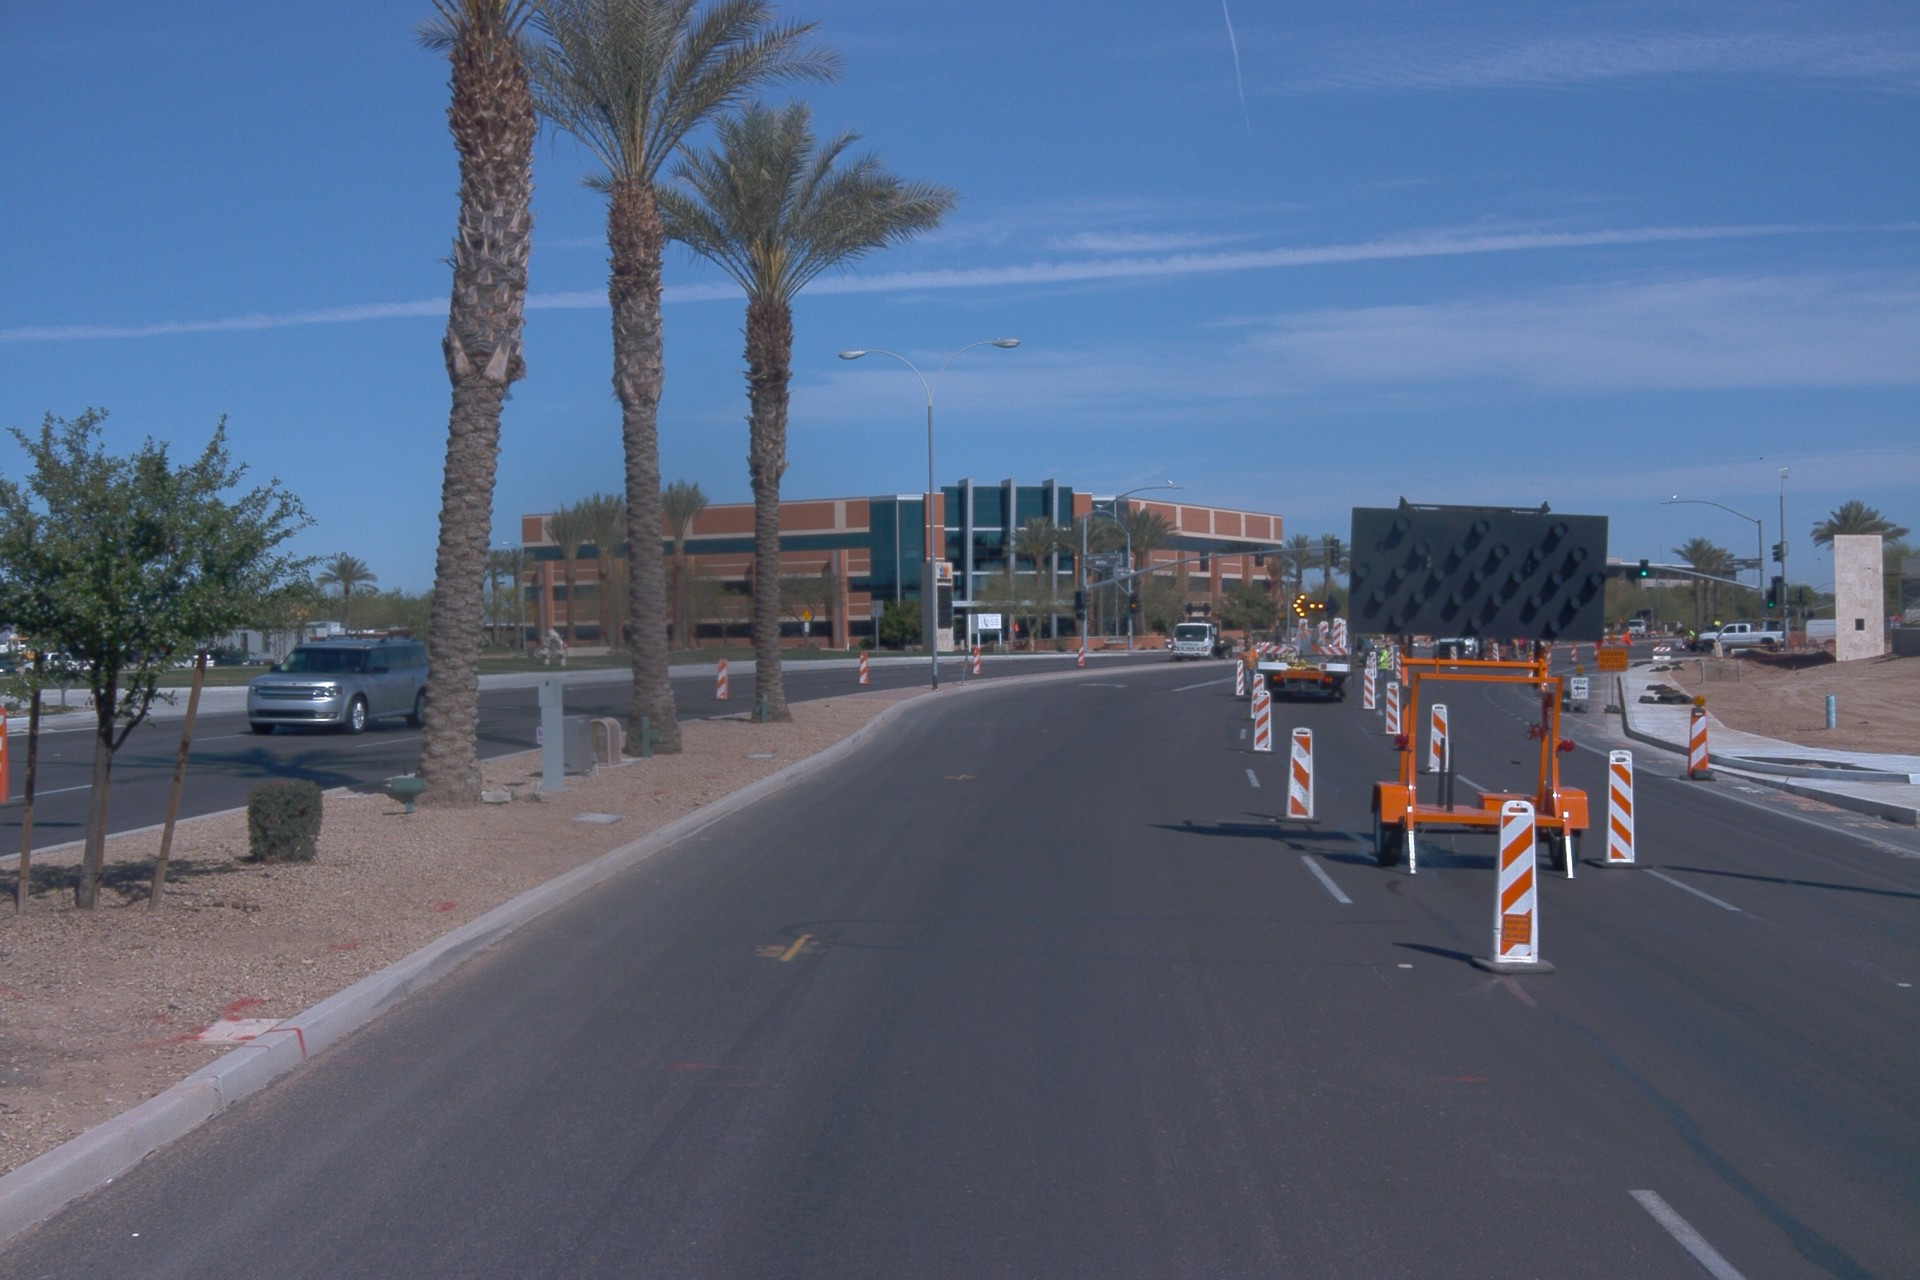TYPE_PEDESTRIAN: (1236, 640, 1260, 698), (1377, 643, 1393, 684)
TYPE_VEHICLE: (1339, 488, 1631, 884), (243, 635, 433, 738), (1246, 591, 1357, 707), (1163, 614, 1247, 667), (1690, 620, 1789, 653), (1431, 635, 1522, 662), (20, 651, 99, 681), (145, 652, 216, 678), (211, 645, 265, 669), (1624, 616, 1660, 641), (177, 643, 220, 663), (1358, 639, 1378, 669), (1512, 637, 1538, 652)
